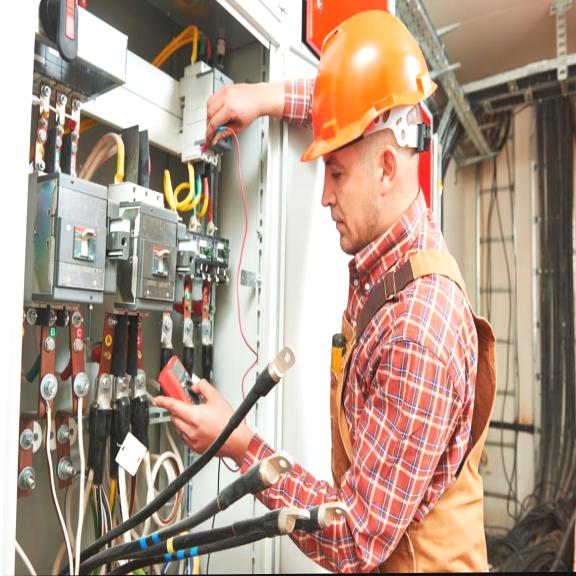no_safety_vest: (307, 214, 517, 574)
